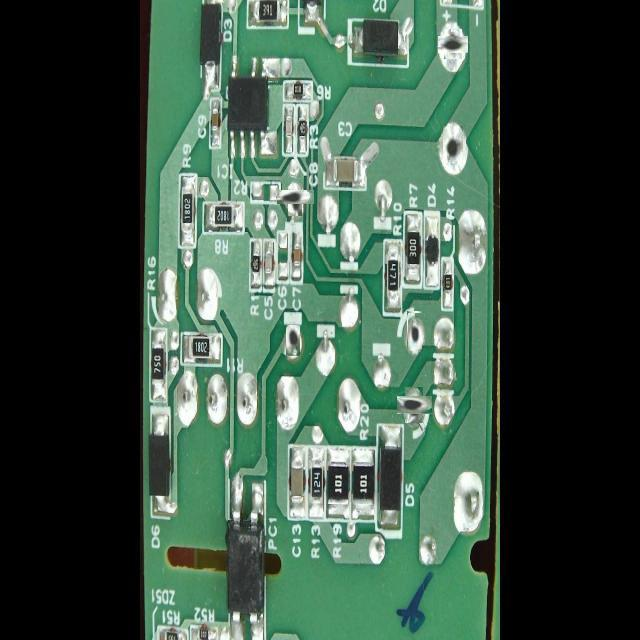damged: (443, 126, 463, 165), (401, 392, 428, 418), (282, 184, 308, 210), (441, 32, 465, 56), (407, 312, 422, 349), (285, 324, 300, 356)
